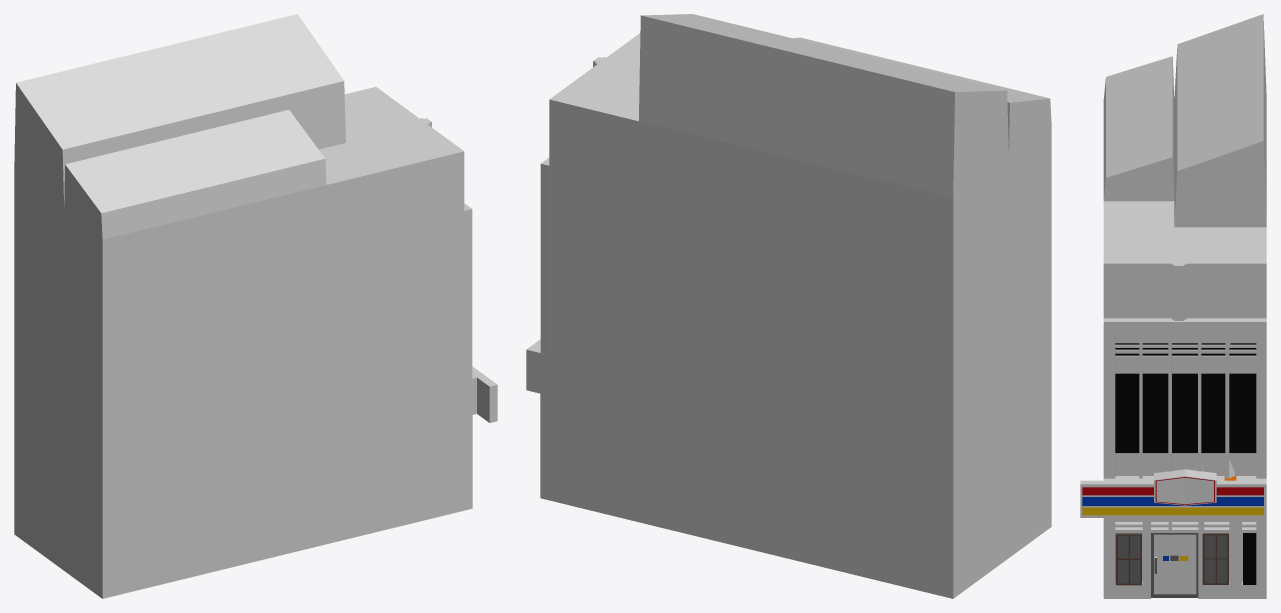
File: IndomaretSampingBatavia.fbx
3 renders of one model, left to right at view 1: azimuth 30°, elevation 25°; view 2: azimuth 150°, elevation 25°; view 3: azimuth 270°, elevation 25°, orthographic. The views are drawn at different scales.
Parts seen in each view (by area): view 1: Cube; view 2: Cube; view 3: Cube, Cube.002, Cube.001, Cube.003, Cube.004, Cube.005.
Boxes of the visible parts, x1,y1,x2,y2 form: Cube: (14,14,497,598); Cube: (526,14,1051,598); Cube: (1080,14,1266,598); Cube.002: (1151,533,1198,597); Cube.001: (1154,469,1216,505); Cube.003: (1115,533,1141,585); Cube.004: (1202,533,1228,584); Cube.005: (1243,533,1256,584).
Bounding box in the file's own units: 1011 × 1136 × 459.
